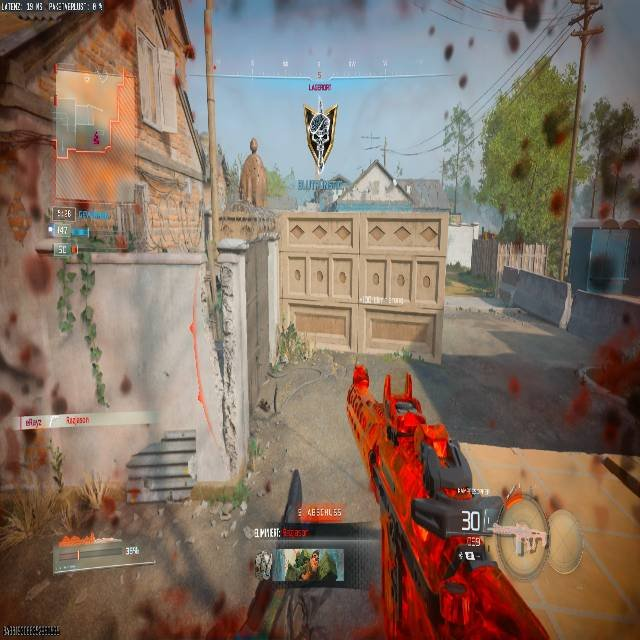player: (249, 136, 258, 154)
